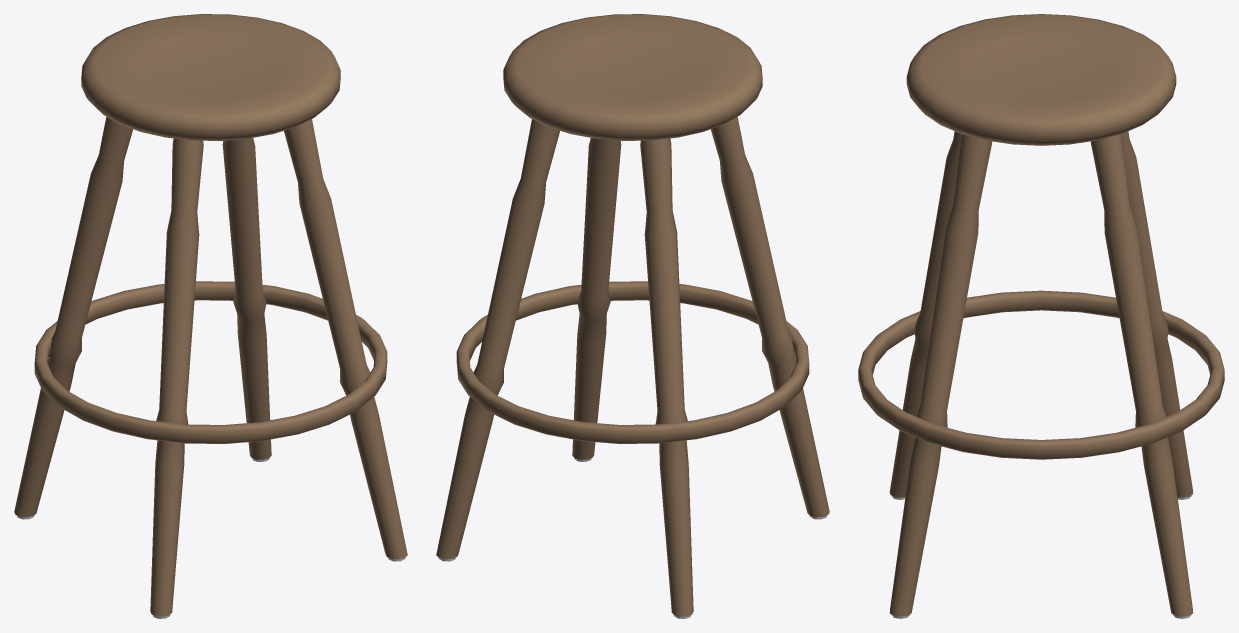
Rendered from Kit_BarStool.fbx.
3 renders of one model, left to right at view 1: azimuth 30°, elevation 25°; view 2: azimuth 150°, elevation 25°; view 3: azimuth 270°, elevation 25°, orthographic. The views are drawn at different scales.
Visible parts, largest first — view 1: Kit_BarStool_LOD0; view 2: Kit_BarStool_LOD0; view 3: Kit_BarStool_LOD0.
Part boxes in pixels (bbox=[...]): Kit_BarStool_LOD0: bbox=[14, 14, 407, 618]; Kit_BarStool_LOD0: bbox=[436, 14, 829, 618]; Kit_BarStool_LOD0: bbox=[858, 14, 1224, 618].
Size of what is drawn, in the model's own units: 0.5151 by 0.76 by 0.5151.
